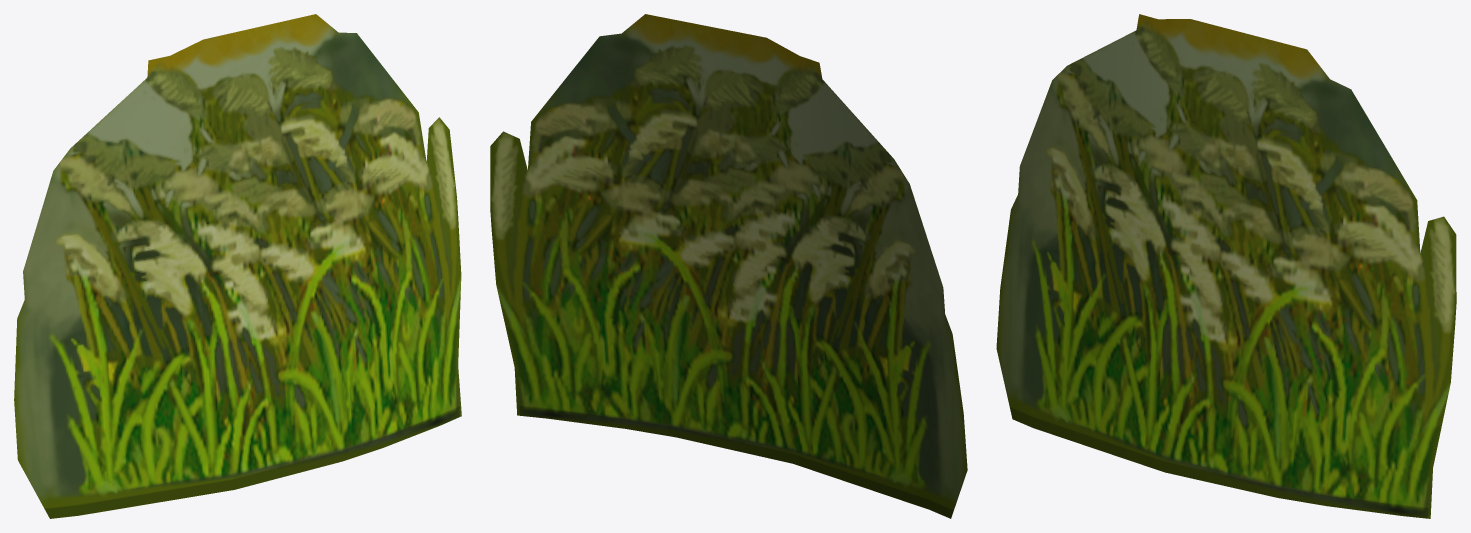
Rendered from sences_changbanpo_guanmu009.FBX.
3 renders of one model, left to right at view 1: azimuth 30°, elevation 25°; view 2: azimuth 150°, elevation 25°; view 3: azimuth 330°, elevation 25°, orthographic. The views are drawn at different scales.
Visible parts, largest first — view 1: sences_changbanpo_guanmu009; view 2: sences_changbanpo_guanmu009; view 3: sences_changbanpo_guanmu009.
Part boxes in pixels (<box>): sences_changbanpo_guanmu009: <box>14,14,461,518</box>; sences_changbanpo_guanmu009: <box>490,14,967,518</box>; sences_changbanpo_guanmu009: <box>996,14,1456,518</box>.
Size of the model in its own units: 3.74 by 0.5436 by 3.43.
